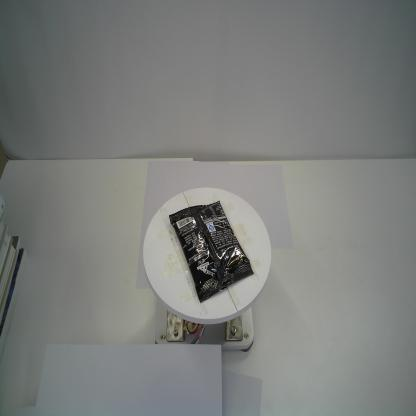Instant Drink: (169, 200, 254, 303)
